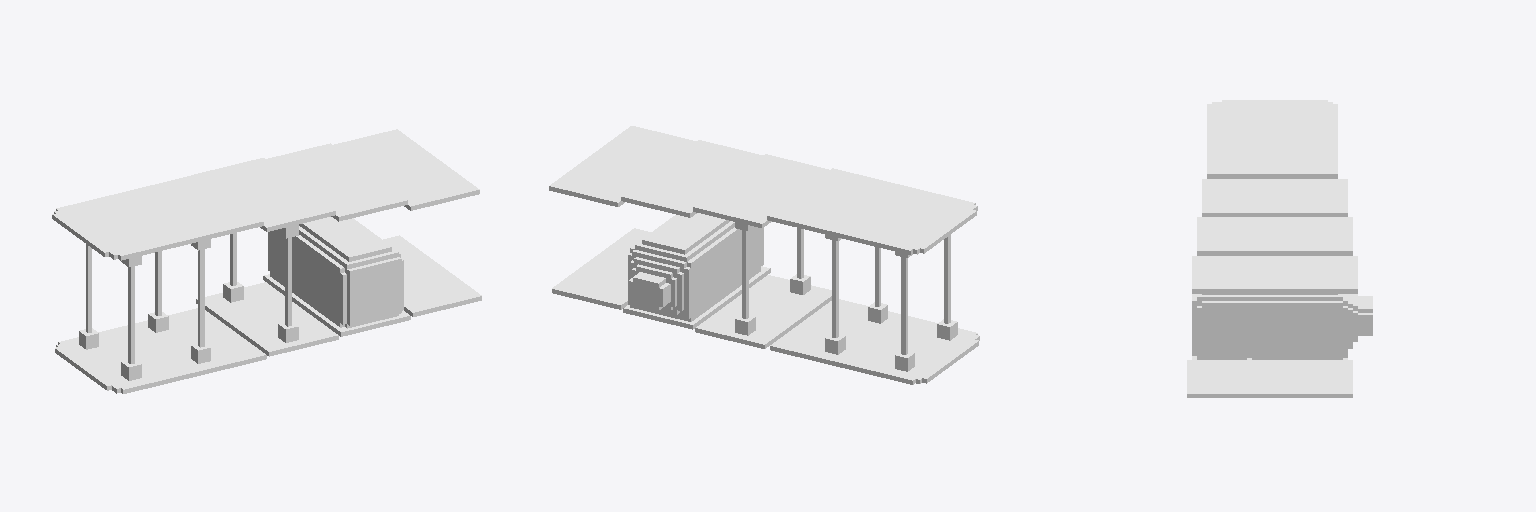
Rendered from Gotha-3.obj.
3 renders of one model, left to right at view 1: azimuth 30°, elevation 25°; view 2: azimuth 150°, elevation 25°; view 3: azimuth 270°, elevation 25°, orthographic.
Parts seen in each view (by area): view 1: Gotha-3; view 2: Gotha-3; view 3: Gotha-3.
Boxes of the visible parts, <box> form: Gotha-3: <box>52,129,481,393</box>; Gotha-3: <box>549,126,979,384</box>; Gotha-3: <box>1187,100,1372,397</box>.
Bounding box in the file's own units: 83 × 30 × 37.